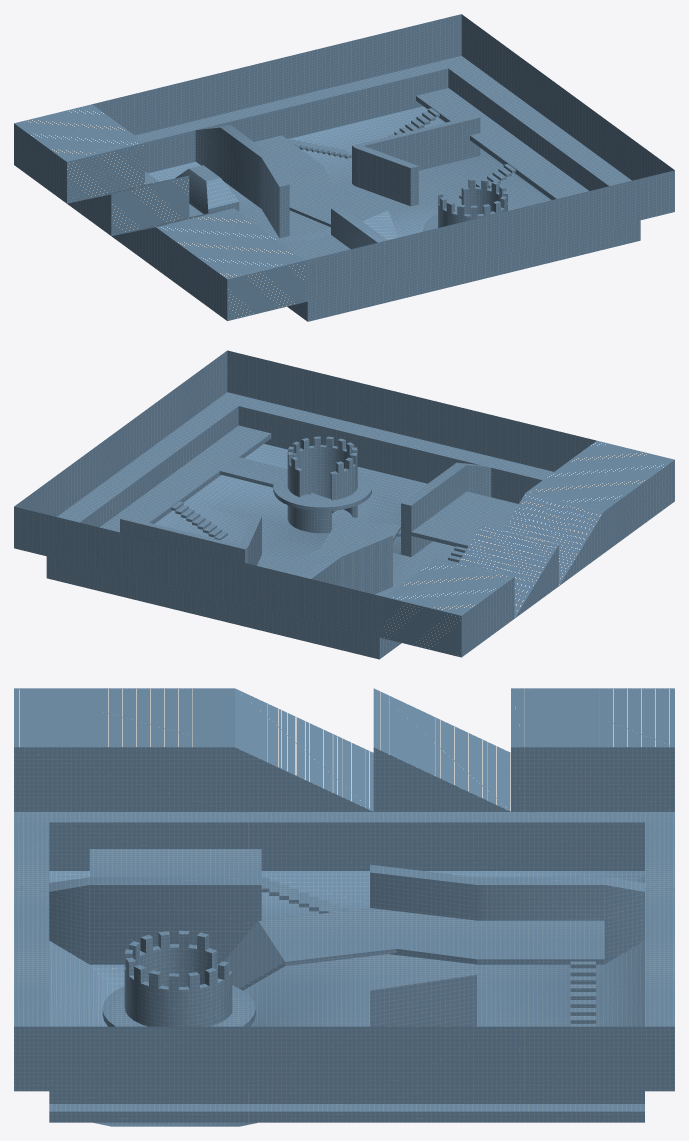
Rendered from collision-world.glb.
The picture shows the model from 3 angles, top to bottom: view 1: azimuth 30°, elevation 25°; view 2: azimuth 150°, elevation 25°; view 3: azimuth 270°, elevation 25°; orthographic projection. The views are drawn at different scales.
Visible parts, largest first — view 1: Cube.004, Cube.002, Cube.001, Cube.007, Cube.005, Cube.006, Cube.009; view 2: Cube.004, Cube.002, Cube.007, Cube.001, Cube.006; view 3: Cube.004, Cube.005, Cube.007, Cube.001, Cube.006, Cube.009.
Part boxes in pixels (bbox=[...]): Cube.004: bbox=[14, 14, 674, 321]; Cube.002: bbox=[360, 115, 480, 170]; Cube.001: bbox=[355, 146, 418, 206]; Cube.007: bbox=[290, 188, 387, 224]; Cube.005: bbox=[254, 135, 322, 174]; Cube.006: bbox=[284, 165, 334, 207]; Cube.009: bbox=[362, 210, 397, 240]; Cube.004: bbox=[14, 350, 674, 659]; Cube.002: bbox=[120, 516, 239, 560]; Cube.007: bbox=[320, 518, 400, 550]; Cube.001: bbox=[240, 514, 261, 565]; Cube.006: bbox=[281, 549, 338, 571]; Cube.004: bbox=[14, 688, 674, 1126]; Cube.005: bbox=[477, 920, 604, 963]; Cube.007: bbox=[258, 908, 396, 965]; Cube.001: bbox=[370, 968, 476, 1026]; Cube.006: bbox=[370, 908, 476, 963]; Cube.009: bbox=[217, 921, 285, 990].
Size of the model in its own units: 114 by 23.58 by 94.19.
Materials: 1 (1 with a texture image).
